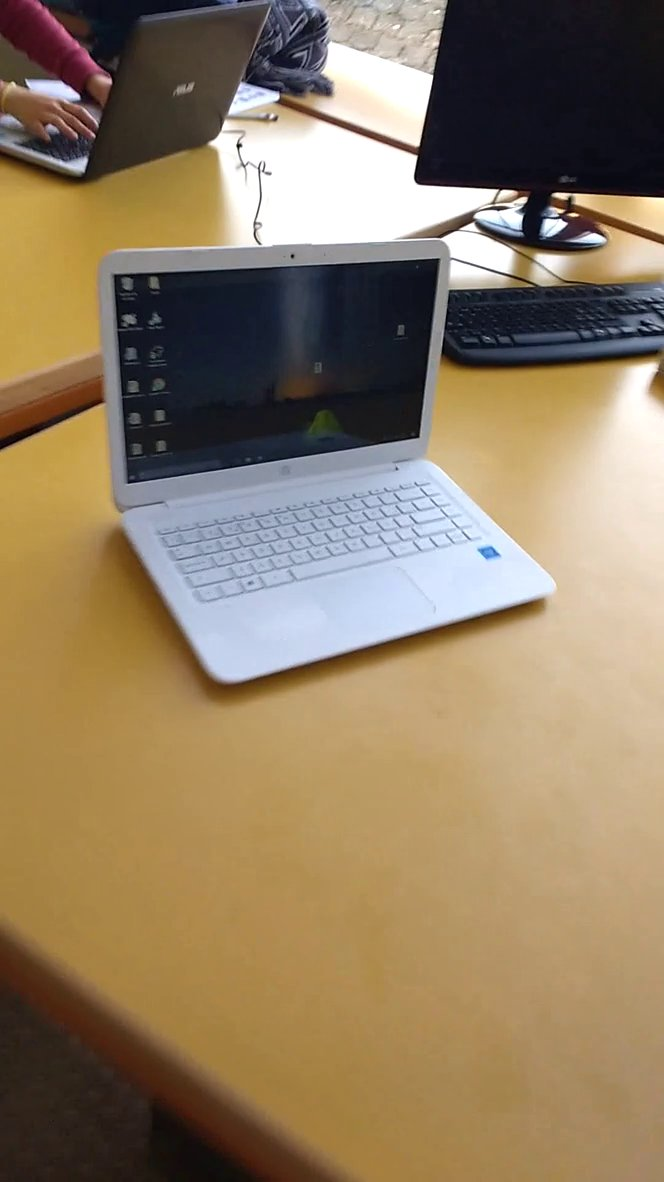laptop: (87, 228, 565, 701), (2, 2, 282, 194)
